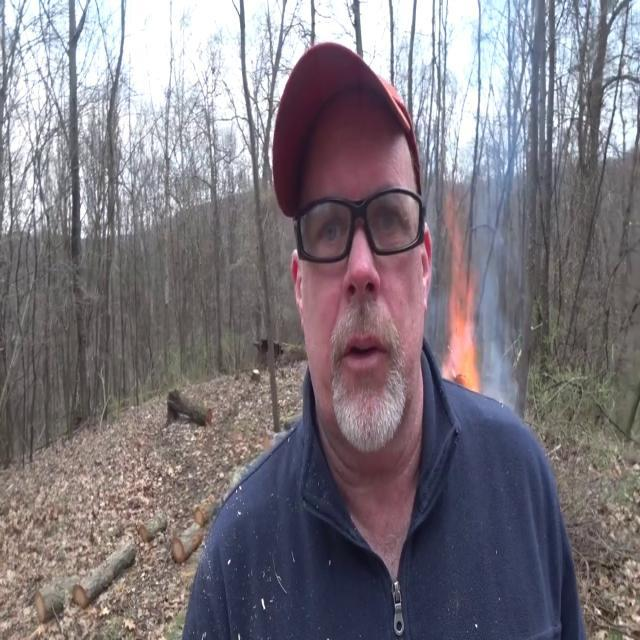Fire: (446, 290, 486, 394)
